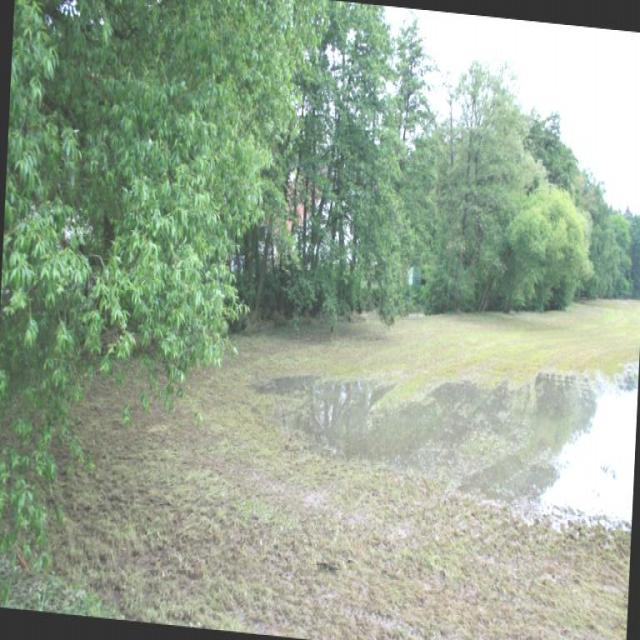flood: (247, 330, 638, 539)
